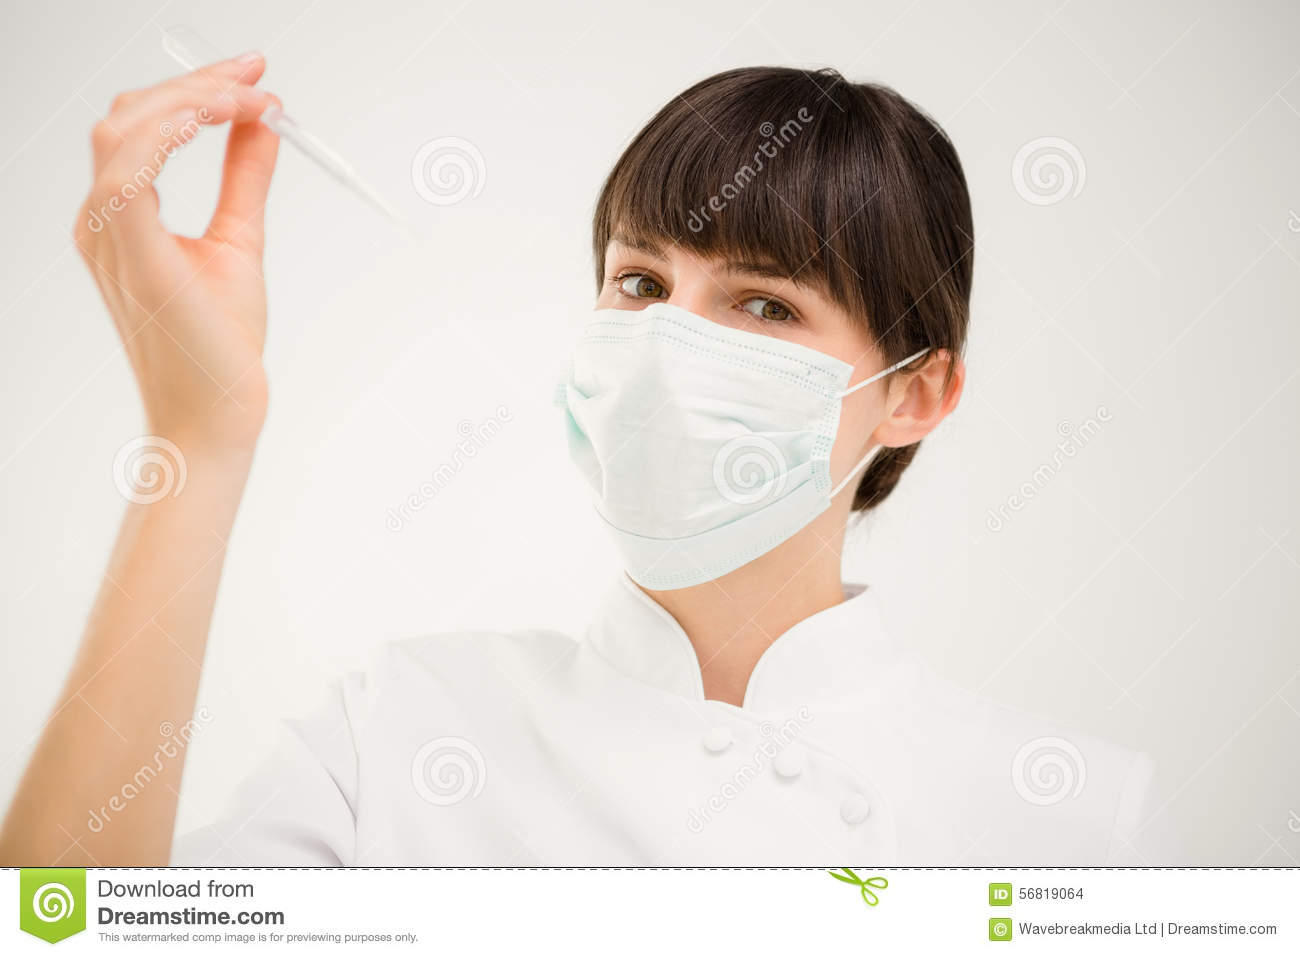mask: (533, 313, 857, 580)
